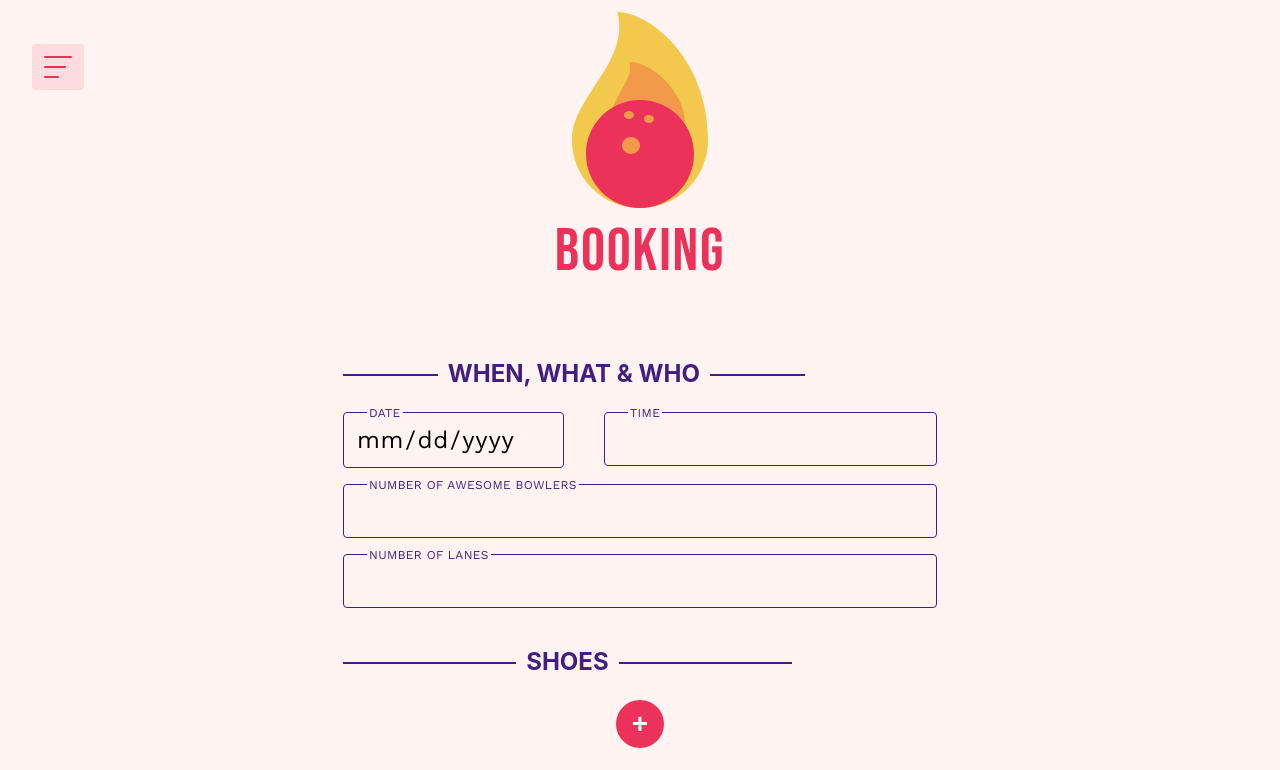
shoes testing › should allow adding new shoe
Click the button "+" at (640, 724), box [616, 700, 664, 748]
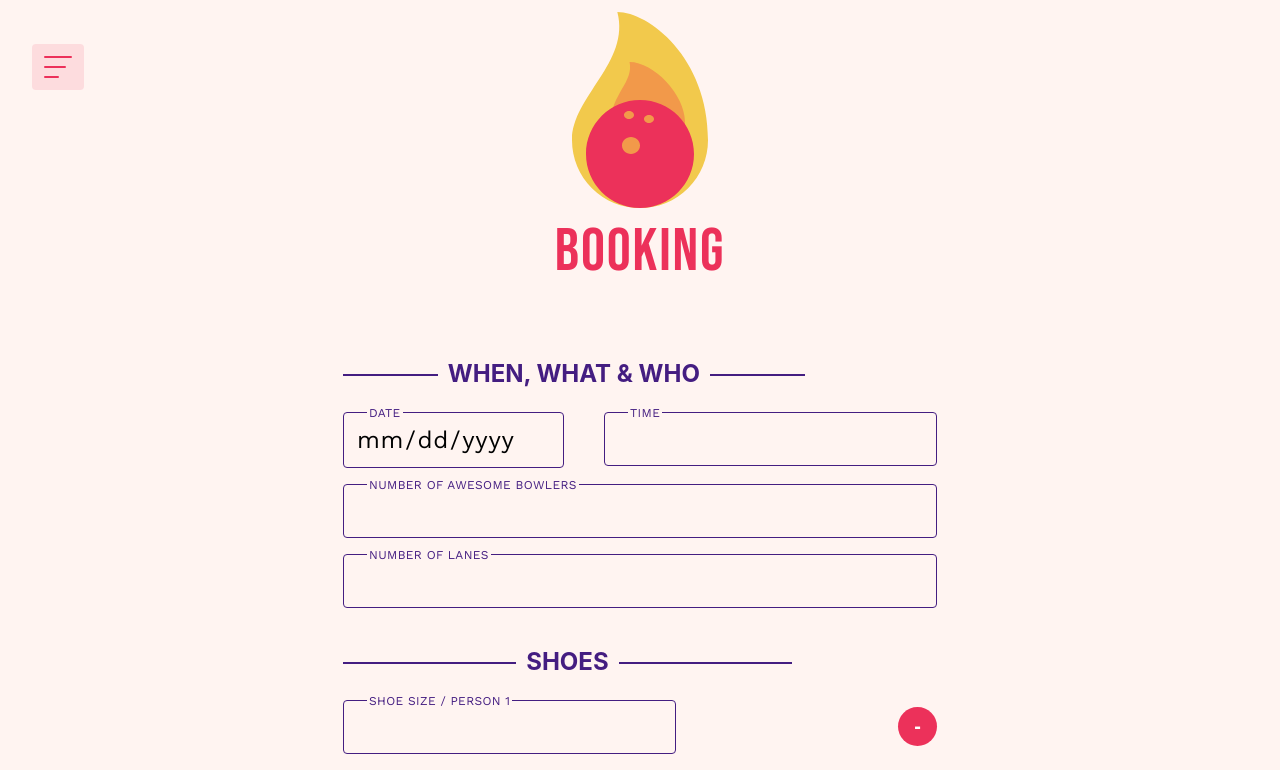
Check: the field next to "Shoe size / person 1" is shown, box [343, 700, 676, 754]
